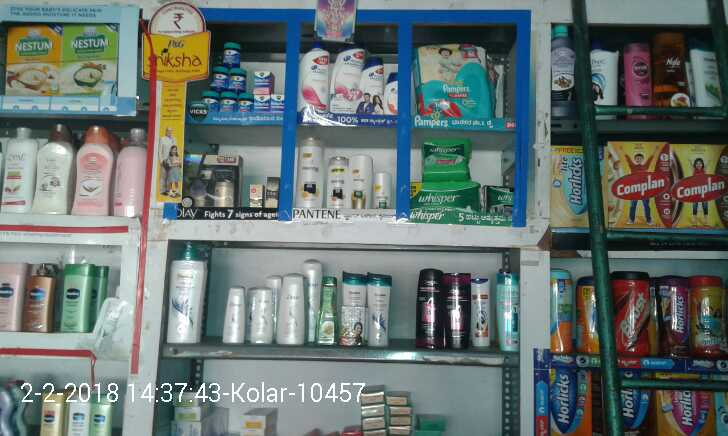beauty: (296, 35, 330, 118), (333, 32, 363, 113), (295, 139, 321, 211), (348, 149, 373, 212), (327, 149, 352, 211), (364, 53, 383, 113), (212, 173, 236, 212), (375, 165, 395, 210), (384, 66, 401, 116), (264, 176, 280, 213), (247, 179, 261, 207)
pharmacy: (416, 41, 497, 115), (409, 174, 485, 216), (424, 141, 473, 178), (482, 181, 513, 218), (252, 70, 272, 95), (223, 40, 240, 65), (207, 67, 225, 88), (227, 68, 244, 90), (220, 92, 236, 113), (271, 91, 284, 115), (202, 92, 219, 110), (254, 96, 271, 113), (237, 94, 252, 110)
